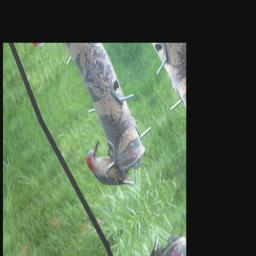Woodpecker: (83, 129, 136, 209)
